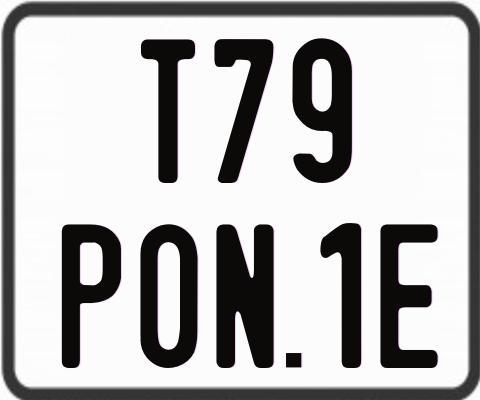0: (138, 223, 200, 373)
1: (319, 221, 360, 369)
7: (212, 39, 273, 183)
9: (290, 36, 352, 187)
E: (377, 222, 437, 368)
N: (215, 223, 277, 373)
P: (60, 224, 123, 368)
T: (141, 37, 195, 187)
